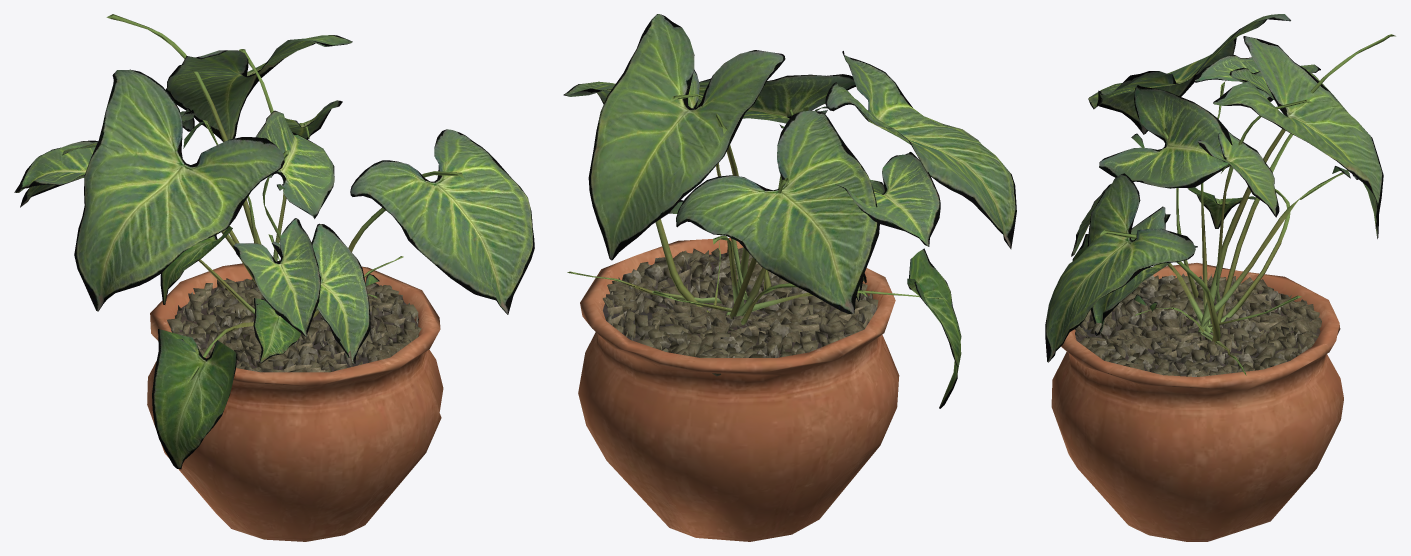
File: jardiniere_plante_b_lod0.glb
The picture shows the model from 3 angles, left to right: view 1: azimuth 30°, elevation 25°; view 2: azimuth 150°, elevation 25°; view 3: azimuth 270°, elevation 25°; orthographic projection. The views are drawn at different scales.
Visible parts, largest first — view 1: potted_plant_02_leaves, potted_plant_02_pot; view 2: potted_plant_02_pot, potted_plant_02_leaves; view 3: potted_plant_02_pot, potted_plant_02_leaves.
Boxes of the visible parts, left/top/right/bottom form: potted_plant_02_leaves: left=14, top=14, right=534, bottom=469; potted_plant_02_pot: left=147, top=261, right=443, bottom=541; potted_plant_02_pot: left=578, top=238, right=899, bottom=541; potted_plant_02_leaves: left=563, top=14, right=1016, bottom=408; potted_plant_02_pot: left=1051, top=263, right=1343, bottom=541; potted_plant_02_leaves: left=1045, top=14, right=1395, bottom=375.
Bounding box in the file's own units: 0.7534 × 0.7892 × 0.5668.
2 materials, 2 textured.
